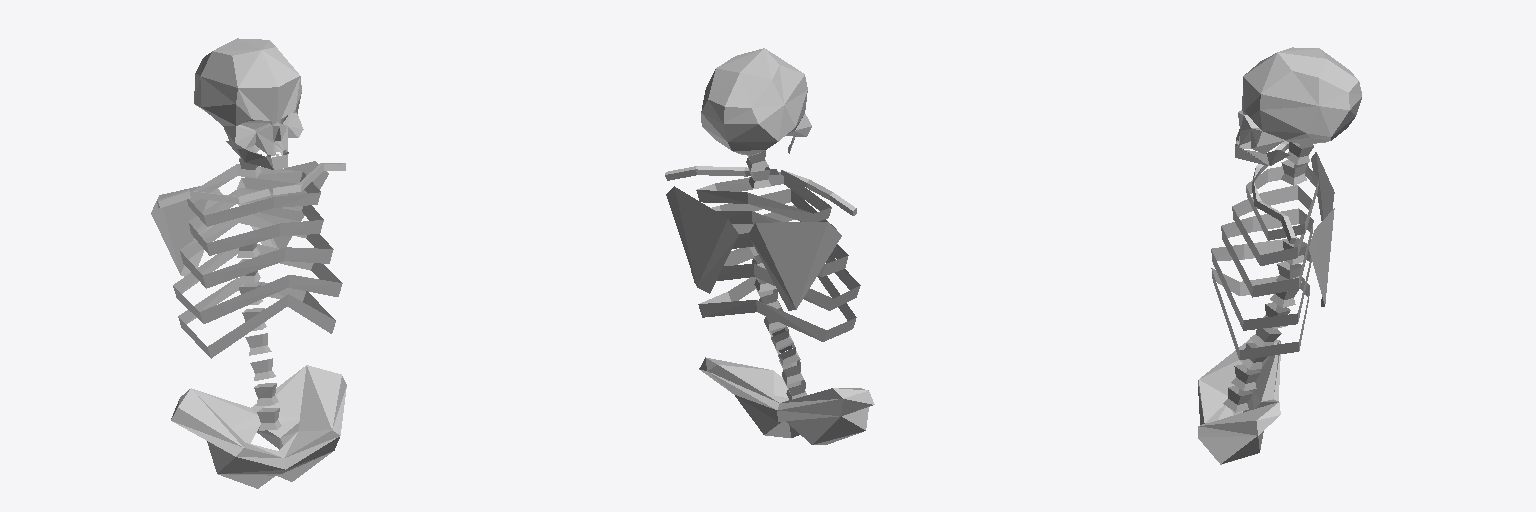
The model's file is newbody3.obj.
3 views of the same model, side by side, from view 1: azimuth 30°, elevation 25°; view 2: azimuth 150°, elevation 25°; view 3: azimuth 270°, elevation 25° (orthographic).
Parts seen in each view (by area): view 1: polySurface17; view 2: polySurface17; view 3: polySurface17.
Part boxes in pixels (bbox=[...]): polySurface17: bbox=[151, 38, 346, 488]; polySurface17: bbox=[665, 48, 874, 444]; polySurface17: bbox=[1198, 47, 1361, 464].
Size of the model in its own units: 2 by 4.09 by 1.48.